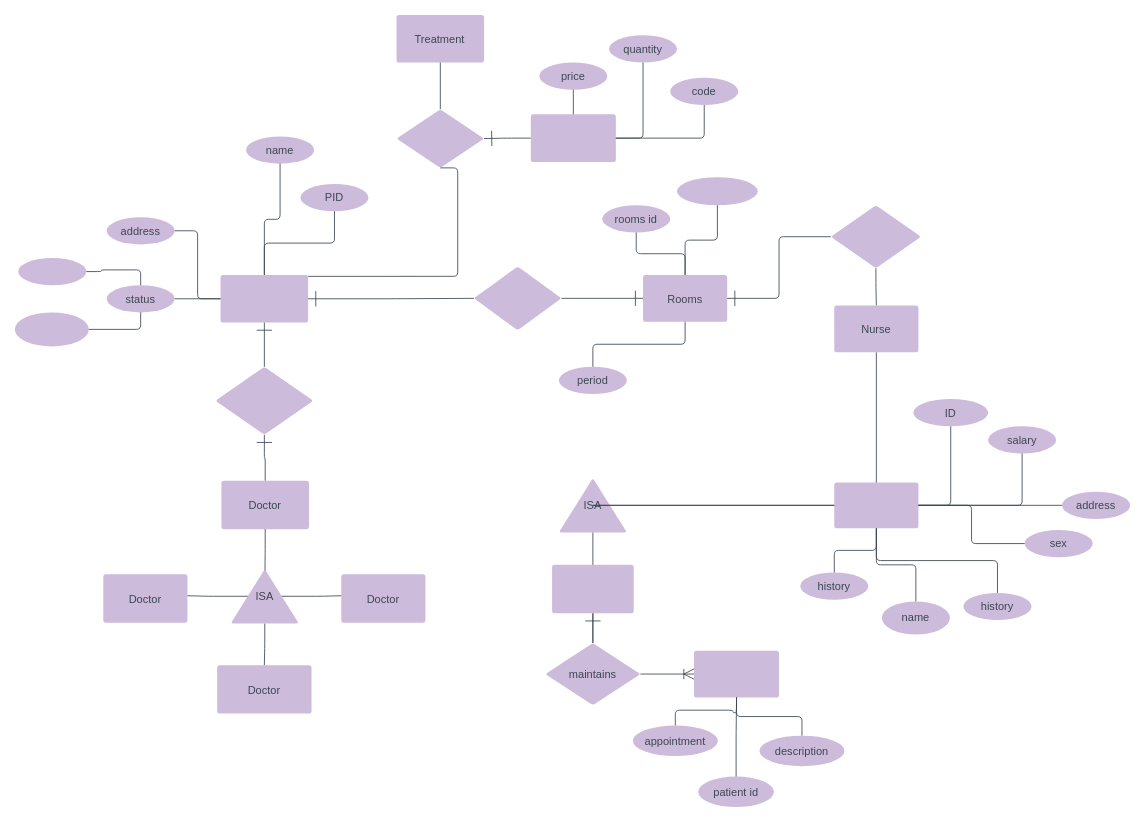
The diagram is 1144 pixels wide and 821 high, and some of its shapes have lost their labels. The box of each missing label's shape, as (x1, y1, x2, y2) in pixels:
admitted: (18, 258, 86, 285)
assigned: (473, 266, 561, 330)
attends: (215, 366, 313, 434)
bill: (396, 109, 484, 167)
discharged: (14, 312, 88, 346)
Employee: (834, 482, 918, 528)
governs: (830, 205, 921, 268)
Medicine: (530, 114, 615, 162)
Patient: (220, 275, 308, 322)
Receptionist: (552, 564, 633, 613)
Record: (694, 650, 779, 697)
room type: (683, 182, 751, 201)
